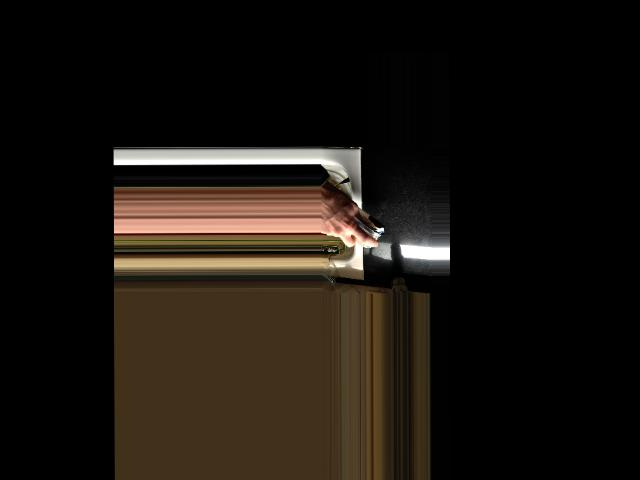cheese: (324, 198, 387, 245)
